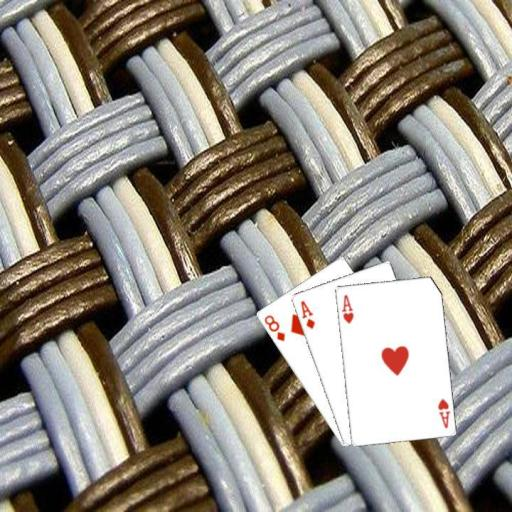8D: (261, 311, 287, 343)
AD: (297, 297, 316, 330)
AH: (434, 396, 451, 430), (338, 292, 355, 325)
